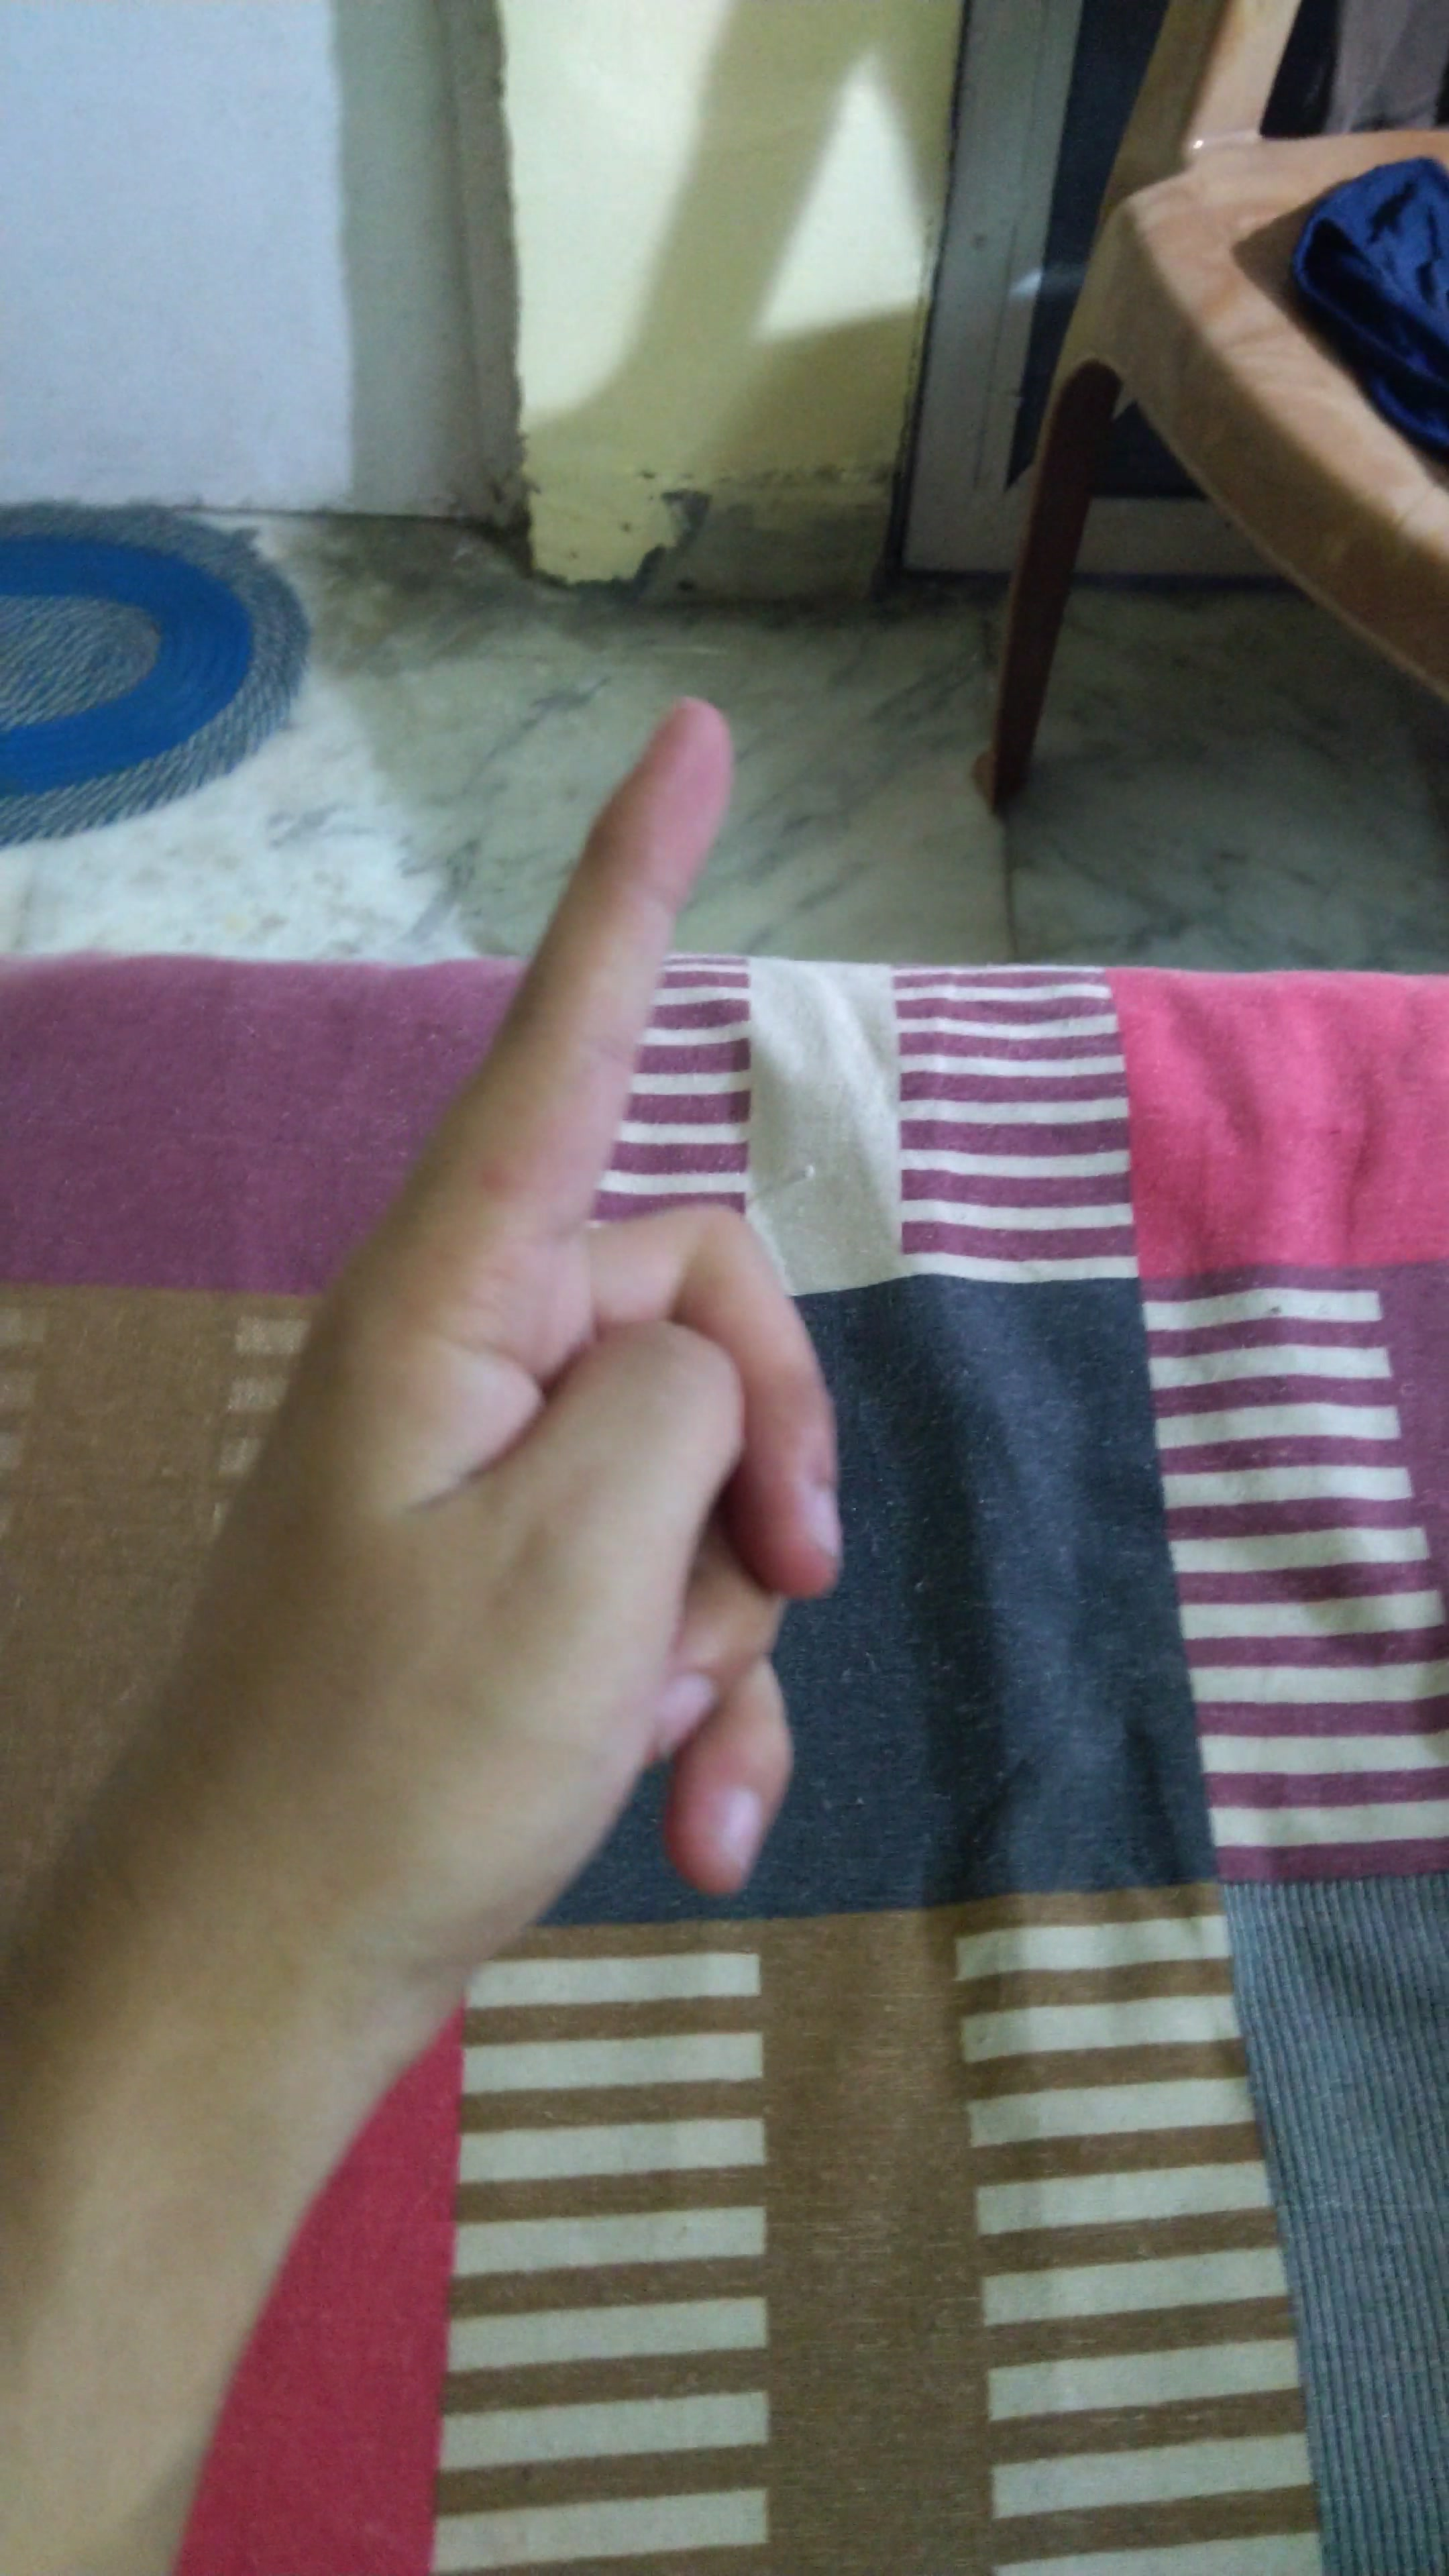hand: (200, 663, 916, 1992)
